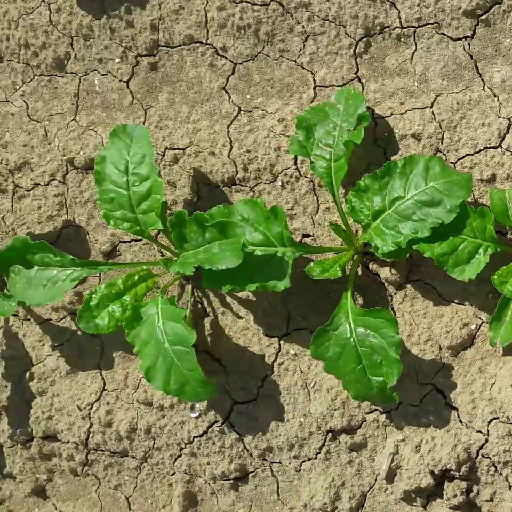sugarbeet: (190, 81, 472, 409), (1, 118, 244, 403), (400, 185, 511, 352)
